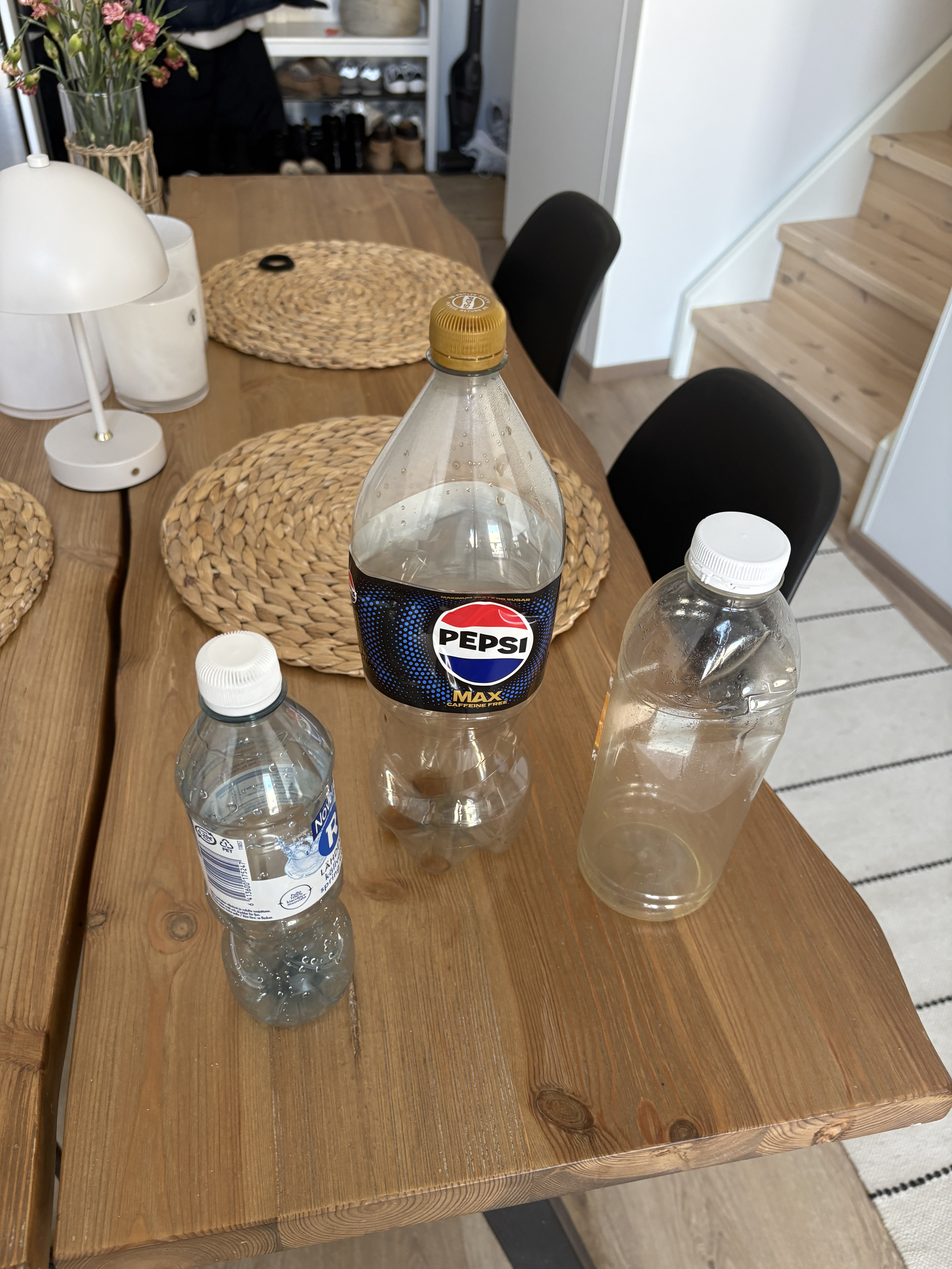Pantburk: (366, 260, 572, 901), (127, 618, 383, 1055), (577, 507, 810, 965)
